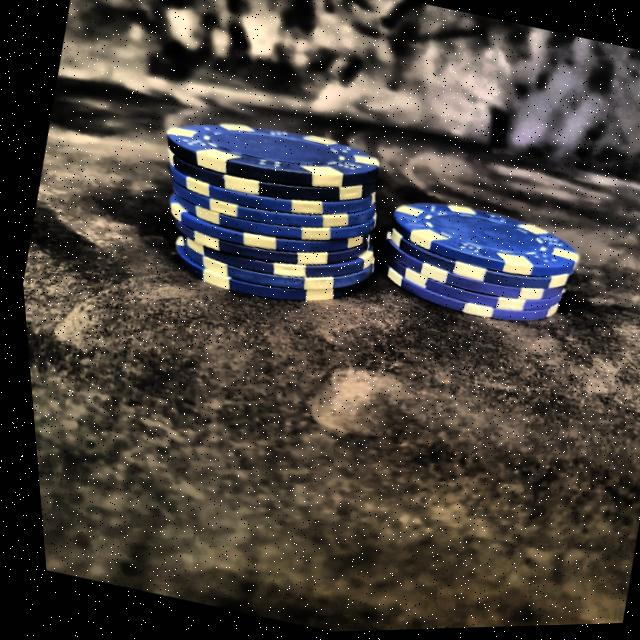Chip: (116, 73, 398, 341), (357, 171, 584, 344)
